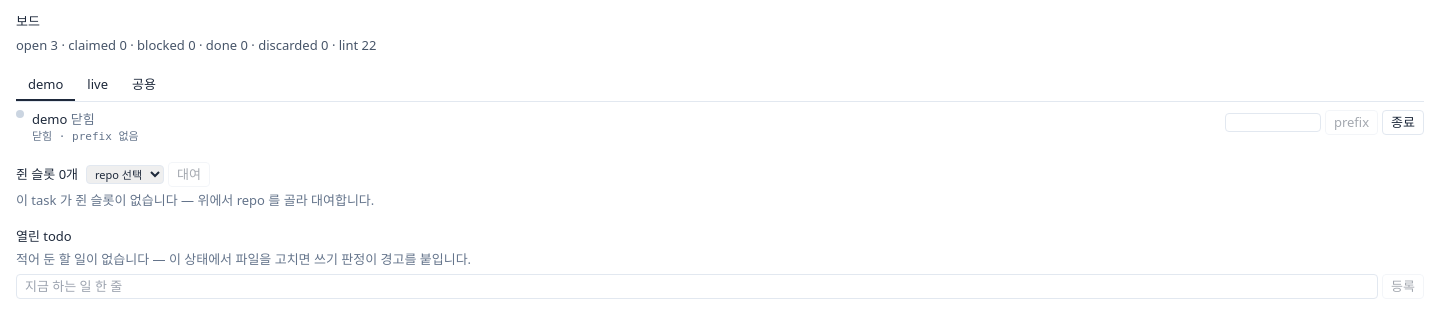
Test case: 현황 탭 읽기 부분 › task 행은 열림 표시·prefix 를 그대로 보인다
expect the element with test id "task-demo" shows "닫힘": met, box x1=71 y1=110 x2=95 y2=128
expect the element with test id "task-demo" shows "prefix 없음": met, box x1=52 y1=130 x2=139 y2=143
Press the mouse on the tab with test id "task-tab-live" at coordinates (98, 86), box x1=75 y1=71 x2=120 y2=100
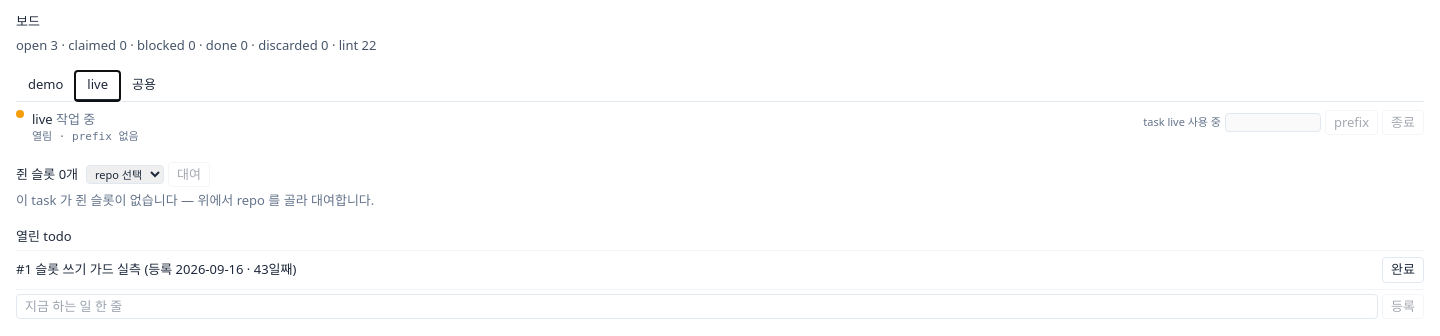
expect the element with test id "task-live" shows "작업 중": met, box x1=56 y1=110 x2=95 y2=128
